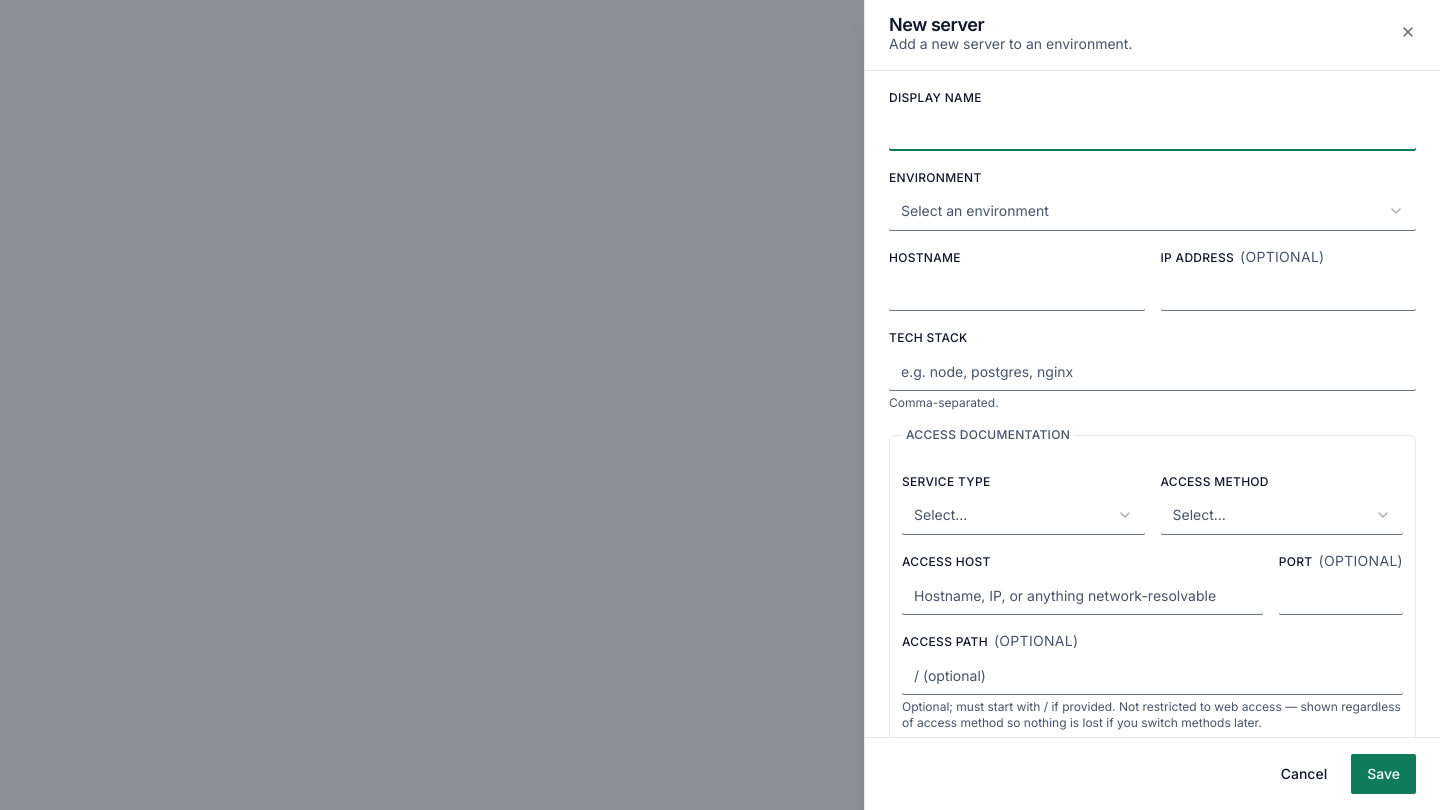
ServerFormSheet — accessibility › focuses the first invalid field in RENDER order, not error-object order
Type "Web 01" into the field labelled "Display name" at (1152, 131), box [889,111,1416,151]
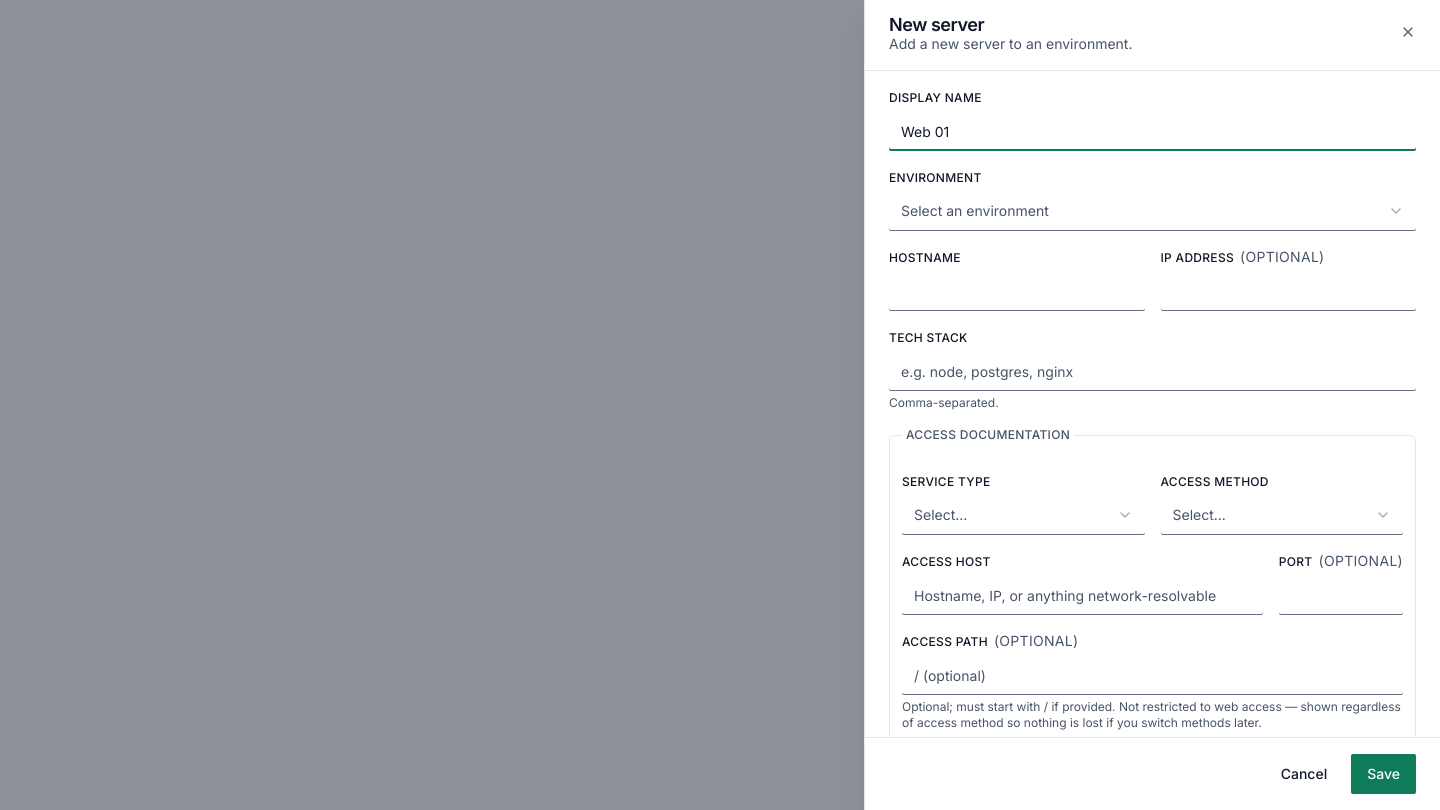
Click the button "Save" at (1384, 774), box [1351,754,1416,794]
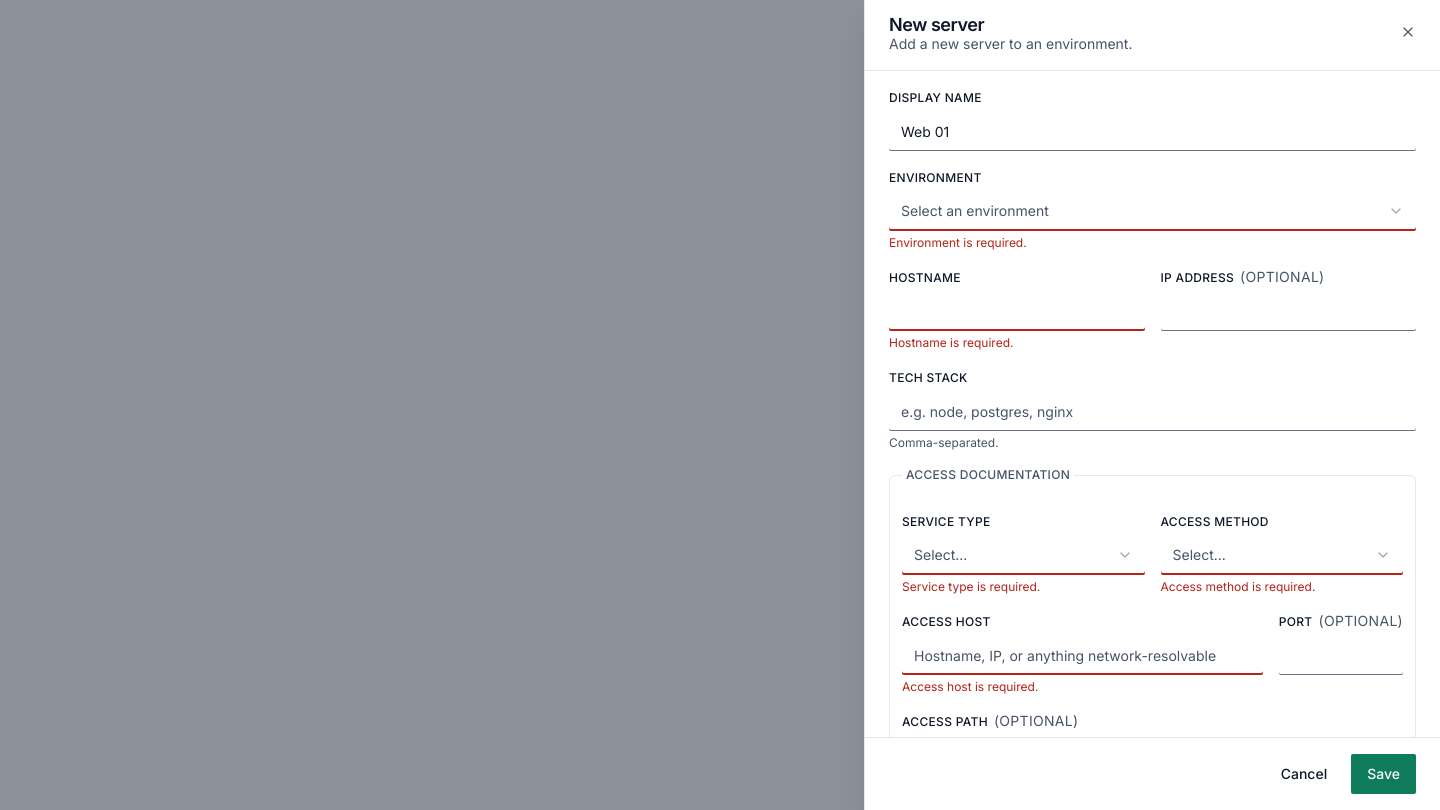
Now the text "Environment is required." is shown, box [889,235,1027,250]
